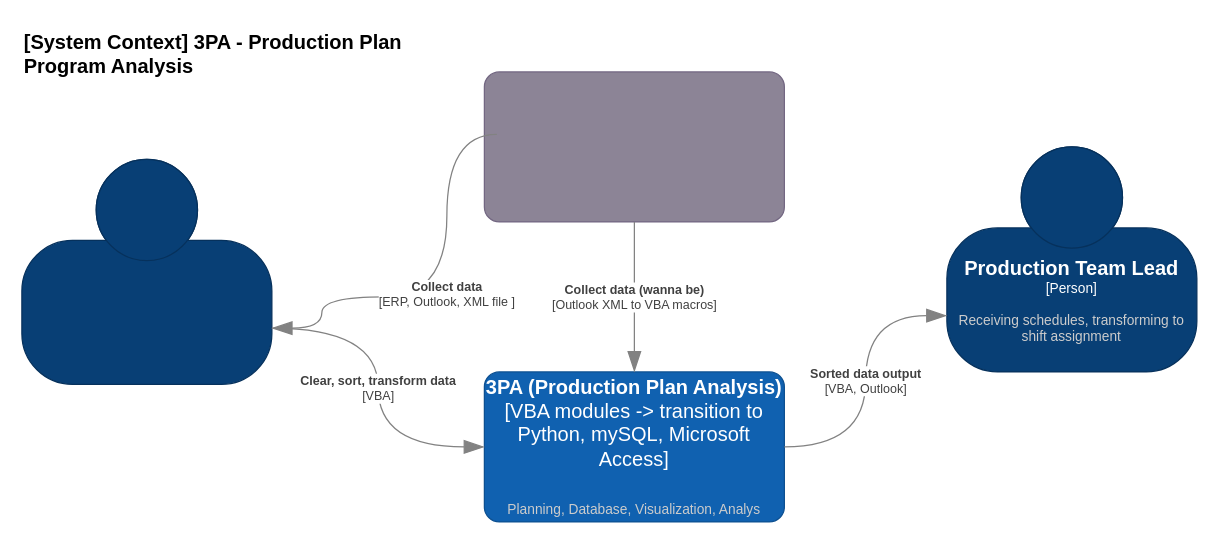
Image size: 1219x544. Some labels were removed from this diagram. The centre of each missing label's shape, as x and y in pixels:
"Infor M3 [ERP] Business data collection" goes at (633,146).
"Production Planner\Analyst [Owner] Maintaince and analysis" goes at (146,271).
